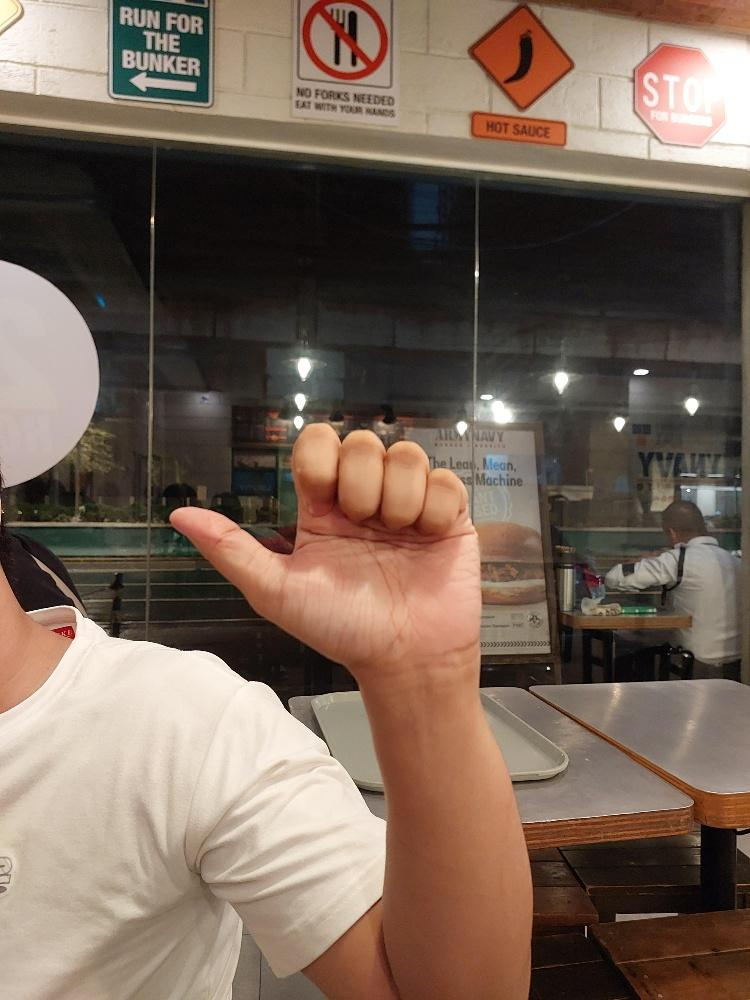e: (166, 418, 484, 675)
